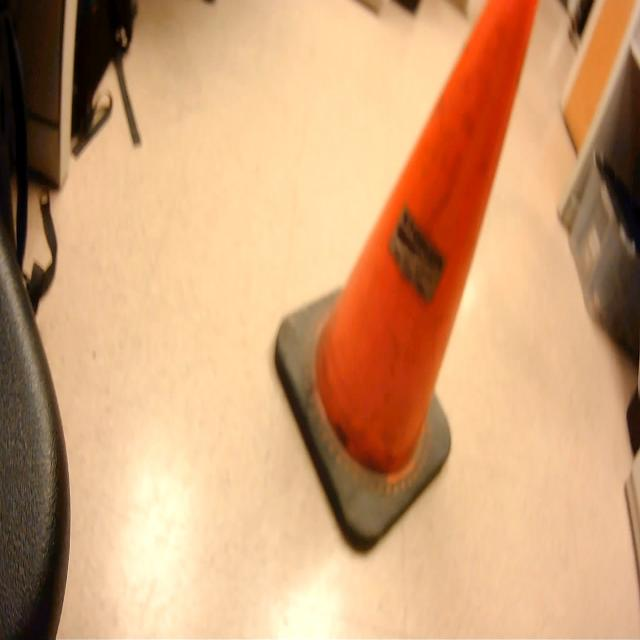traffic cone: (270, 1, 544, 566)
